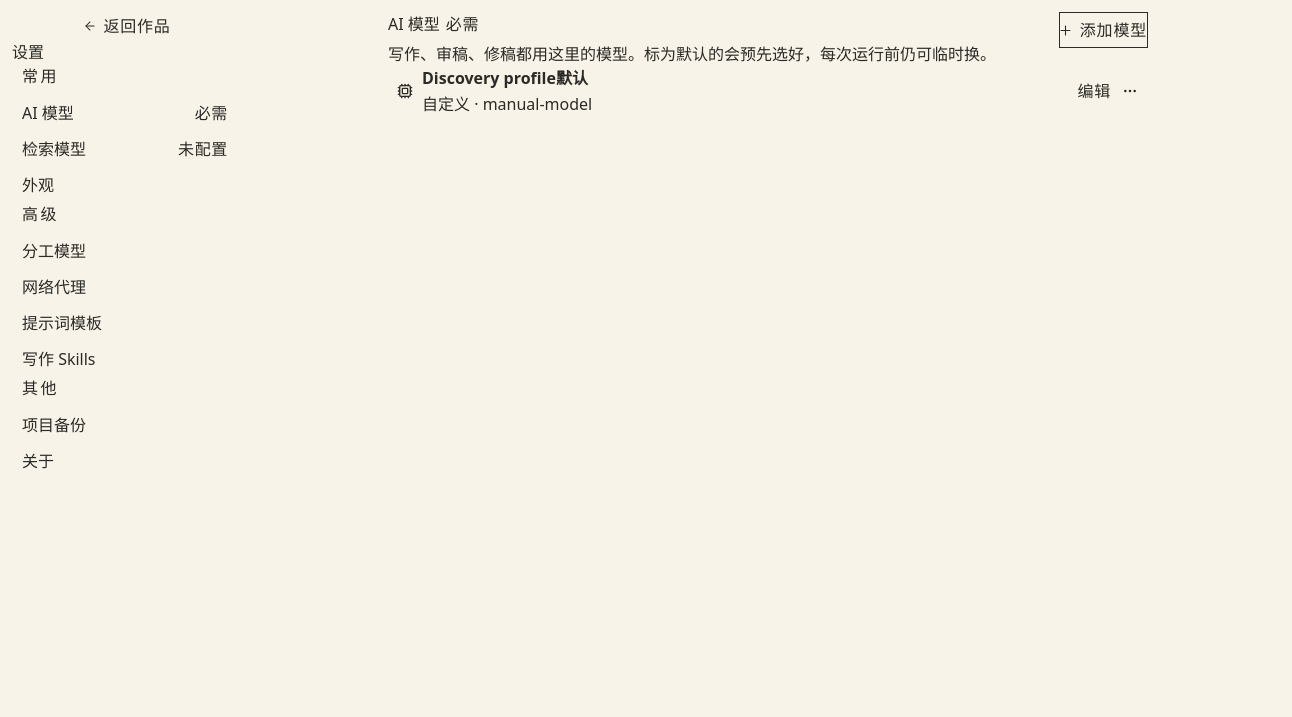
model discovery settings flow › 上下文窗口来源标签 › zh-CN 下档案 {"capabilities":{"contextWindowTokens":1000,"maxOutputTokens":4096,"reasoning":false,"structuredOutput":false,"usage":false},"capabilitySources":{"con
The image size is (1292, 717).
Click the button with aria-label "编辑「".
click(1094, 91)  # box [1076,77,1112,105]
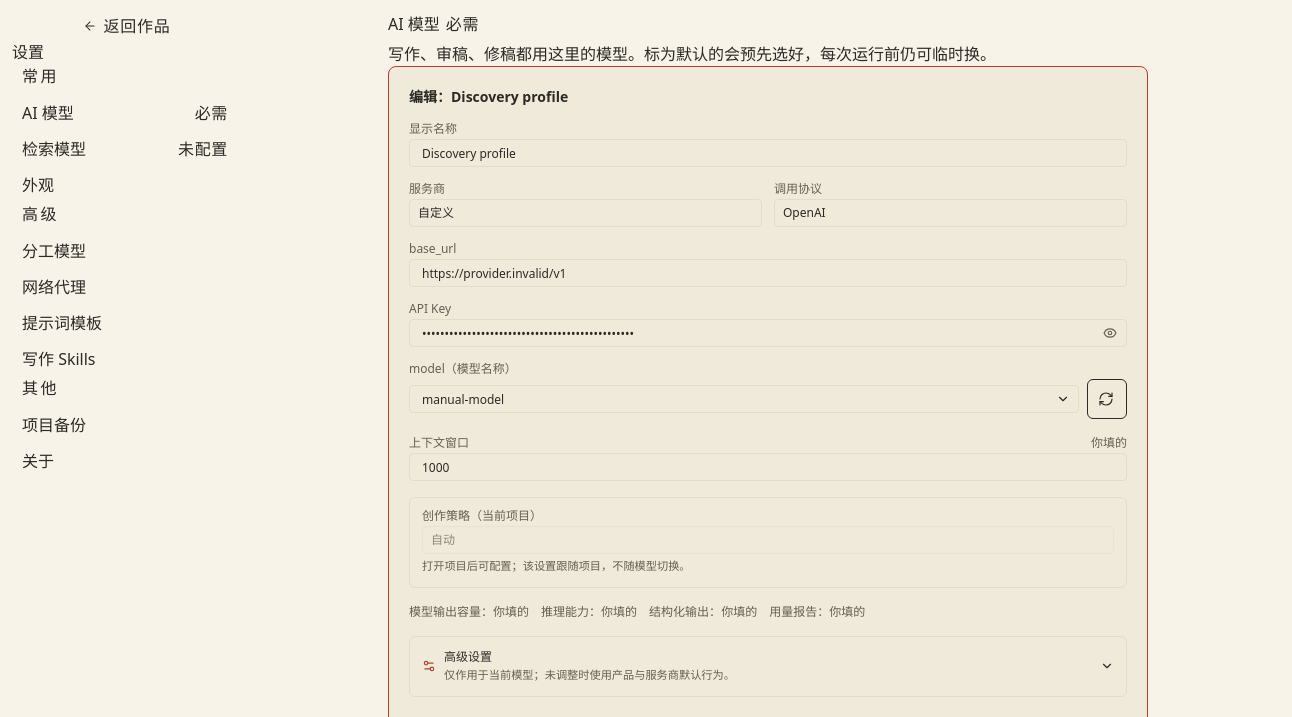
Expected: the text "你填的" is shown, [1091,435,1127,451]
